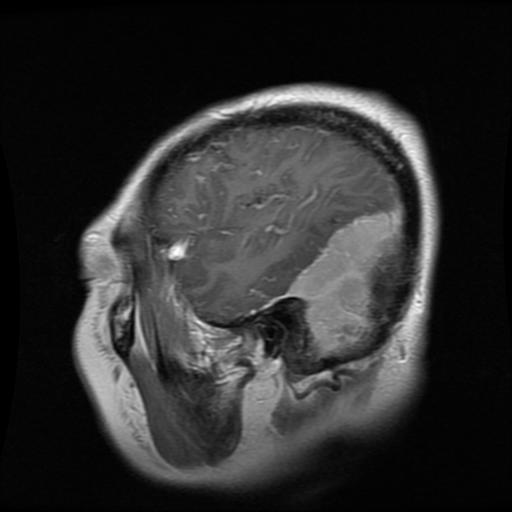Menigiomia_tumour: (284, 204, 405, 359)
